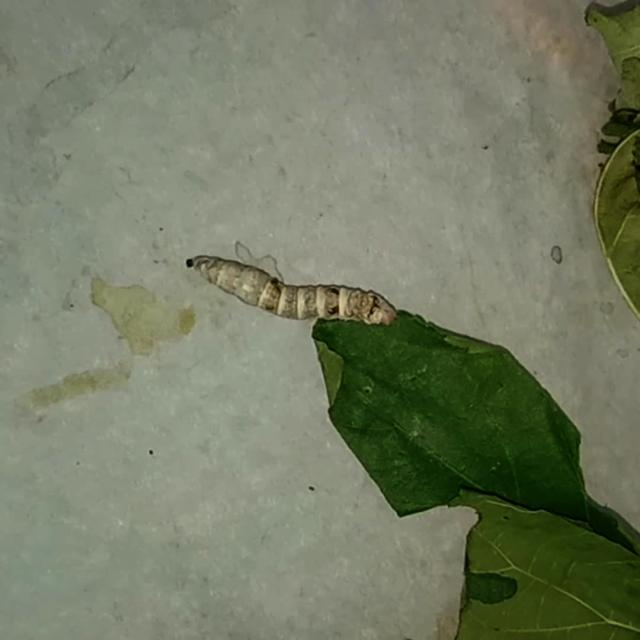Grasserie: (174, 222, 428, 362)
